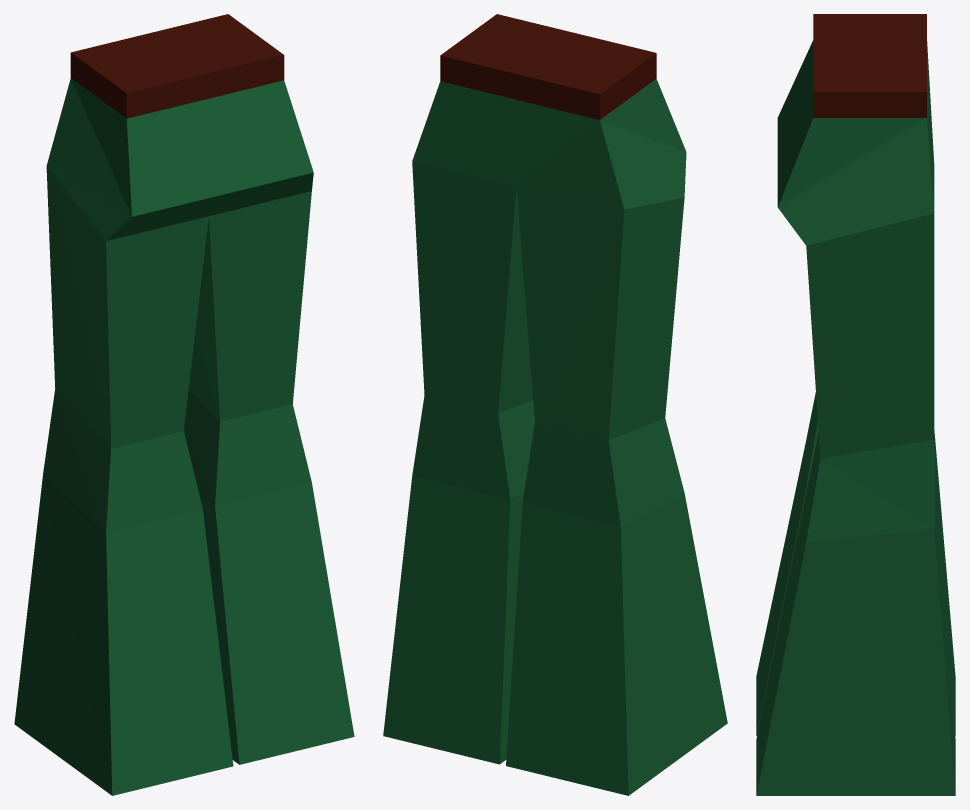
File: player_male_legs_38_0.obj
3 views of the same model, side by side, from view 1: azimuth 30°, elevation 25°; view 2: azimuth 150°, elevation 25°; view 3: azimuth 270°, elevation 25° (orthographic).
Bounding box in the file's own units: 0.3125 × 0.8281 × 0.2188.
